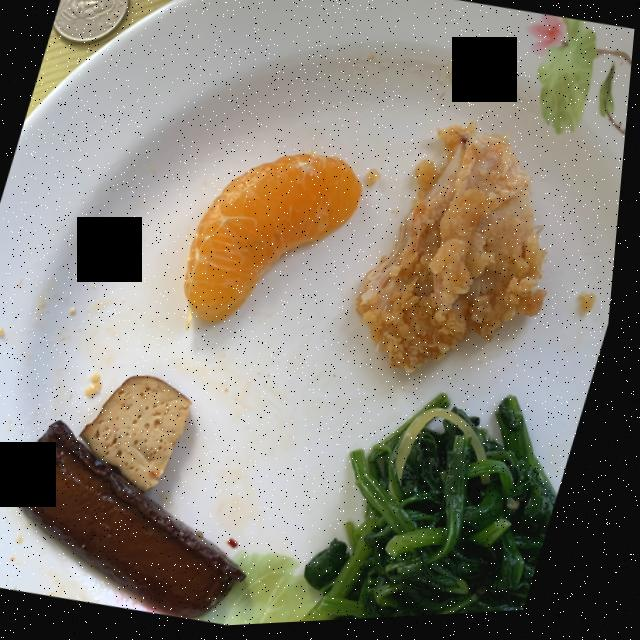coin: (53, 0, 129, 43)
firm tofu: (23, 376, 256, 620)
fried chicken cutlet: (363, 128, 552, 375)
mustard greens: (313, 397, 567, 625)
